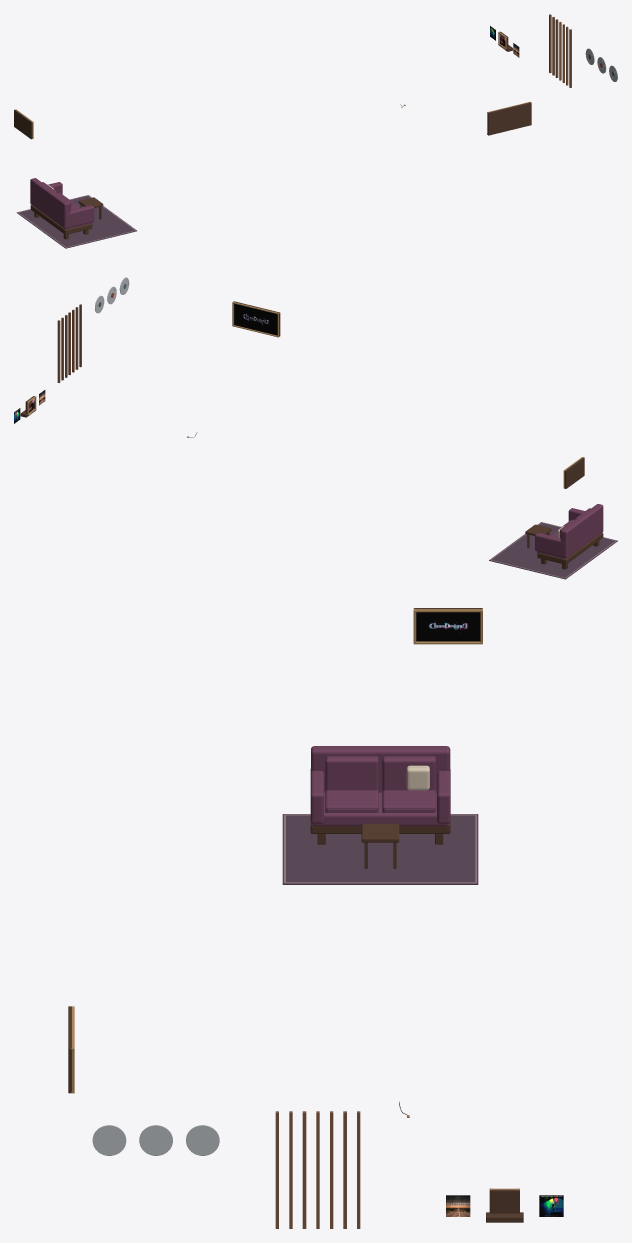
File: studio-makeover.glb
3 renders of one model, top to bottom at view 1: azimuth 30°, elevation 25°; view 2: azimuth 150°, elevation 25°; view 3: azimuth 270°, elevation 25°, orthographic. The views are drawn at different scales.
Visible parts, largest first — view 1: FCMU_studio_lounge_rug, FCMU_studio_lounge_sofa_a_back, FCMU_studio_front_logo_back, FCMU_studio_lounge_sofa_a_arm, FCMU_studio_lounge_sofa_a_base, FCMU_studio_neon_glitch_back; view 2: FCMU_studio_lounge_rug, FCMU_studio_lounge_sofa_a_back, FCMU_studio_front_logo_face, FCMU_studio_lounge_sofa_a_arm.001, FCMU_studio_lounge_sofa_a_base; view 3: FCMU_studio_lounge_rug, FCMU_studio_lounge_sofa_a_back, FCMU_studio_lounge_sofa_a_back_cushion, FCMU_studio_neon_glitch_face, FCMU_studio_lounge_sofa_a_seat_shell, FCMU_studio_lounge_sofa_a_back_cushion.001, FCMU_studio_lounge_sofa_a_seat_cushion, FCMU_studio_lounge_sofa_a_seat_cushion.001, FCMU_studio_platinum_record_1, FCMU_studio_lounge_sofa_a_base, FCMU_studio_platinum_record_3, FCMU_studio_platinum_record_2.
Boxes of the visible parts, x1,y1,x2,y2 form: FCMU_studio_lounge_rug: [16, 195, 136, 248]; FCMU_studio_lounge_sofa_a_back: [30, 178, 70, 228]; FCMU_studio_front_logo_back: [487, 102, 531, 135]; FCMU_studio_lounge_sofa_a_arm: [66, 205, 94, 228]; FCMU_studio_lounge_sofa_a_base: [30, 204, 92, 234]; FCMU_studio_neon_glitch_back: [14, 109, 32, 139]; FCMU_studio_lounge_rug: [489, 522, 617, 579]; FCMU_studio_lounge_sofa_a_back: [560, 504, 603, 558]; FCMU_studio_front_logo_face: [234, 304, 277, 335]; FCMU_studio_lounge_sofa_a_arm.001: [535, 533, 564, 557]; FCMU_studio_lounge_sofa_a_base: [537, 532, 603, 564]; FCMU_studio_lounge_rug: [282, 814, 478, 884]; FCMU_studio_lounge_sofa_a_back: [311, 746, 450, 792]; FCMU_studio_lounge_sofa_a_back_cushion: [325, 756, 378, 790]; FCMU_studio_neon_glitch_face: [416, 612, 479, 640]; FCMU_studio_lounge_sofa_a_seat_shell: [312, 792, 448, 826]; FCMU_studio_lounge_sofa_a_back_cushion.001: [382, 756, 435, 790]; FCMU_studio_lounge_sofa_a_seat_cushion: [325, 790, 378, 812]; FCMU_studio_lounge_sofa_a_seat_cushion.001: [382, 790, 435, 812]; FCMU_studio_platinum_record_1: [92, 1125, 126, 1155]; FCMU_studio_lounge_sofa_a_base: [310, 821, 450, 833]; FCMU_studio_platinum_record_3: [186, 1125, 219, 1155]; FCMU_studio_platinum_record_2: [139, 1125, 172, 1155].
Bounding box in the file's own units: 15.54 × 3.01 × 6.57.
Materials: 20 (6 with a texture image).
